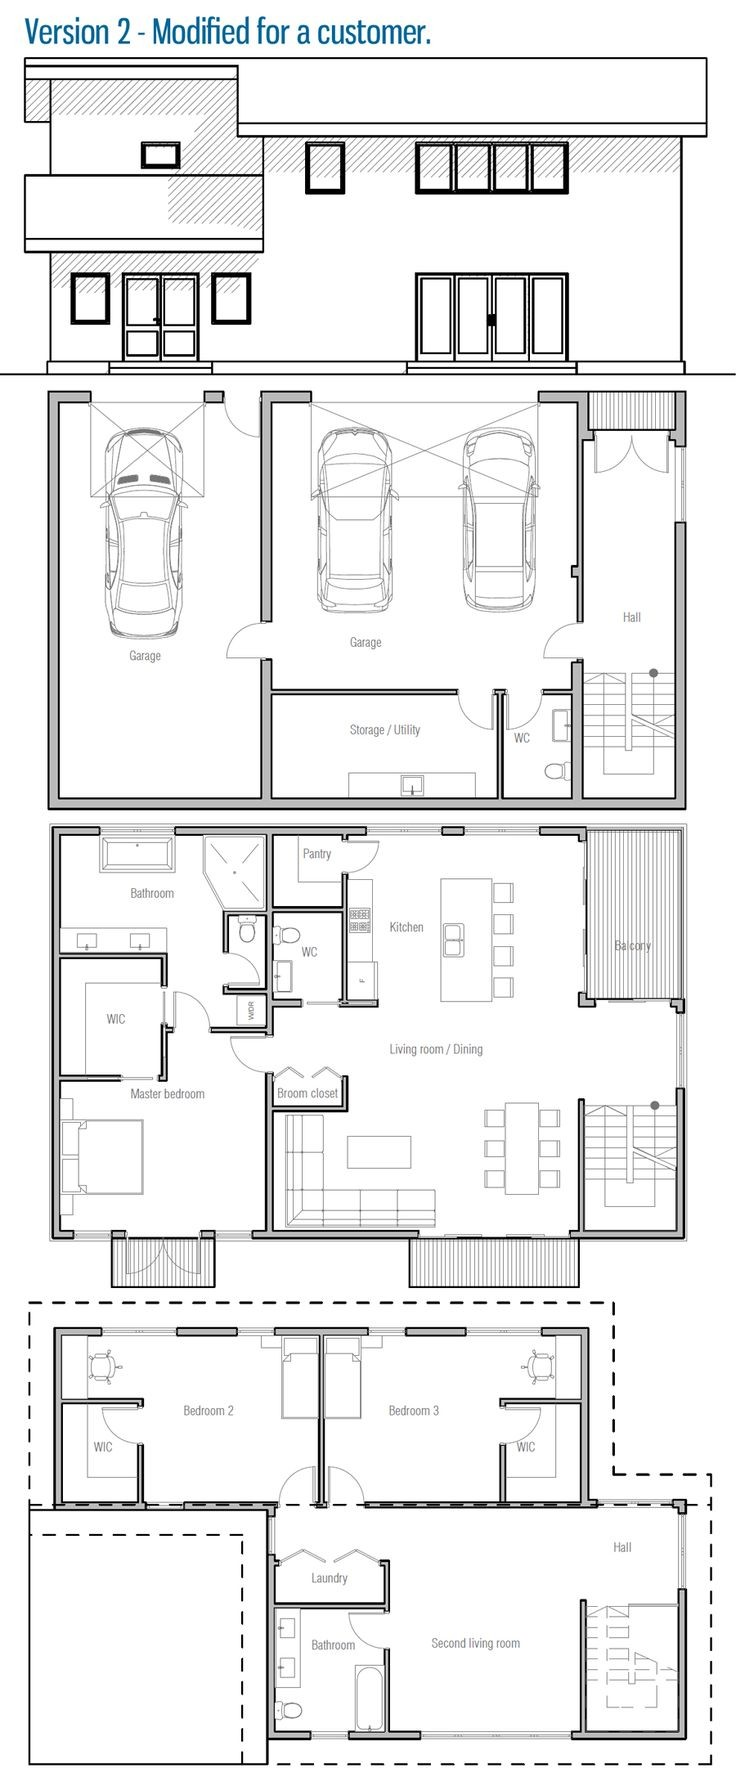\: (654, 1013, 712, 1090), (426, 1715, 577, 1743), (469, 1317, 544, 1364), (98, 1309, 180, 1347), (361, 813, 446, 845), (460, 815, 538, 849), (665, 1513, 688, 1595), (201, 1221, 259, 1253), (307, 1719, 359, 1751), (237, 1313, 282, 1343), (71, 1217, 112, 1245), (369, 1317, 405, 1345)
door: (109, 1230, 220, 1290), (586, 420, 682, 488), (77, 1400, 156, 1460), (214, 604, 277, 673), (501, 685, 565, 747), (214, 388, 269, 456), (273, 1443, 322, 1517), (499, 1404, 561, 1462), (454, 671, 505, 738), (160, 990, 229, 1039), (322, 1449, 380, 1507), (160, 988, 225, 1039), (329, 1607, 394, 1656), (271, 1544, 378, 1573), (493, 1400, 543, 1453), (337, 839, 388, 885), (267, 1056, 344, 1087), (220, 945, 269, 987)
room: (269, 834, 690, 1241), (263, 1511, 697, 1753), (54, 822, 274, 1253), (271, 390, 582, 685), (46, 392, 269, 798), (316, 1334, 593, 1510), (56, 1328, 327, 1507), (580, 390, 678, 798), (263, 696, 499, 805), (494, 681, 577, 804)
wall: (35, 779, 690, 817), (33, 385, 82, 822), (655, 519, 710, 817), (244, 668, 458, 732), (39, 819, 69, 1247), (254, 388, 288, 622), (33, 1326, 75, 1510), (248, 660, 293, 830), (558, 1598, 601, 1754), (567, 385, 593, 621), (254, 828, 282, 1043), (665, 1083, 701, 1247), (248, 1215, 422, 1249), (665, 1585, 701, 1745), (561, 656, 595, 826), (252, 1553, 280, 1753), (569, 1313, 597, 1511), (175, 819, 369, 847), (561, 1217, 701, 1255), (259, 1587, 399, 1621), (252, 1070, 278, 1247), (308, 1313, 331, 1510), (565, 1098, 593, 1247), (48, 943, 181, 973), (462, 1443, 526, 1505), (572, 1717, 703, 1748), (499, 1383, 595, 1421), (333, 875, 359, 1017), (346, 1721, 439, 1760), (261, 888, 358, 924), (41, 1056, 120, 1096), (122, 1445, 164, 1511), (492, 683, 511, 824), (377, 1651, 405, 1745), (44, 1388, 149, 1413), (260, 1092, 356, 1119), (171, 1315, 239, 1351), (274, 1315, 369, 1340), (541, 1311, 599, 1349), (403, 1321, 467, 1347), (212, 1019, 274, 1045), (371, 1561, 399, 1615), (158, 1028, 178, 1094), (39, 1321, 107, 1341), (210, 911, 237, 953), (439, 813, 465, 856), (227, 898, 269, 921)
window: (663, 439, 707, 526), (95, 813, 180, 845)
